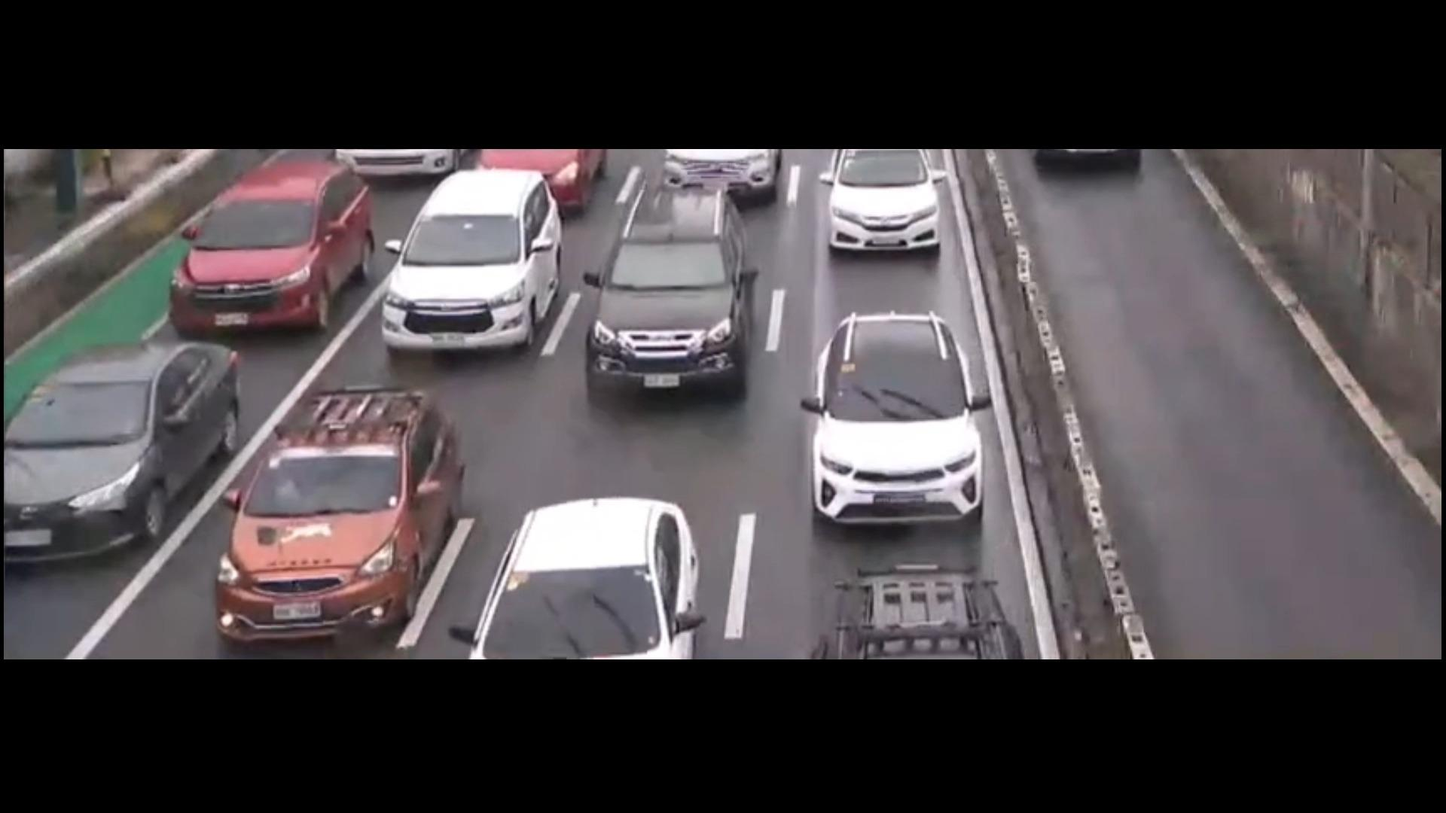SUV: (568, 168, 797, 429), (375, 159, 593, 379), (157, 142, 382, 353)
Sedan: (199, 358, 475, 668), (788, 286, 1048, 561), (0, 323, 257, 570), (465, 465, 744, 660)
